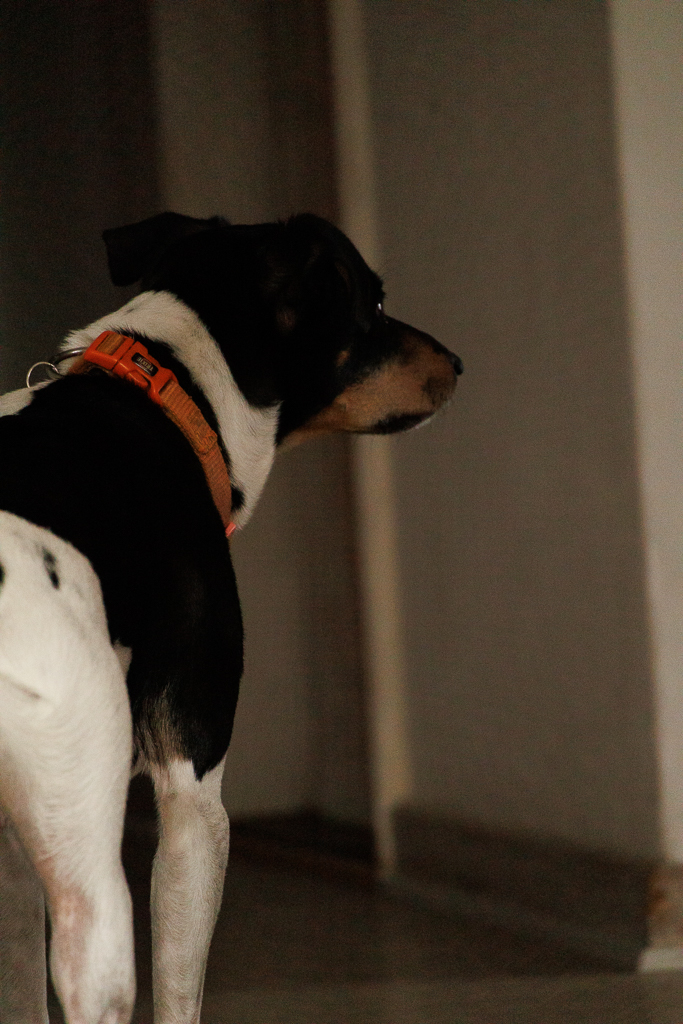Dog: (0, 194, 474, 1024)
